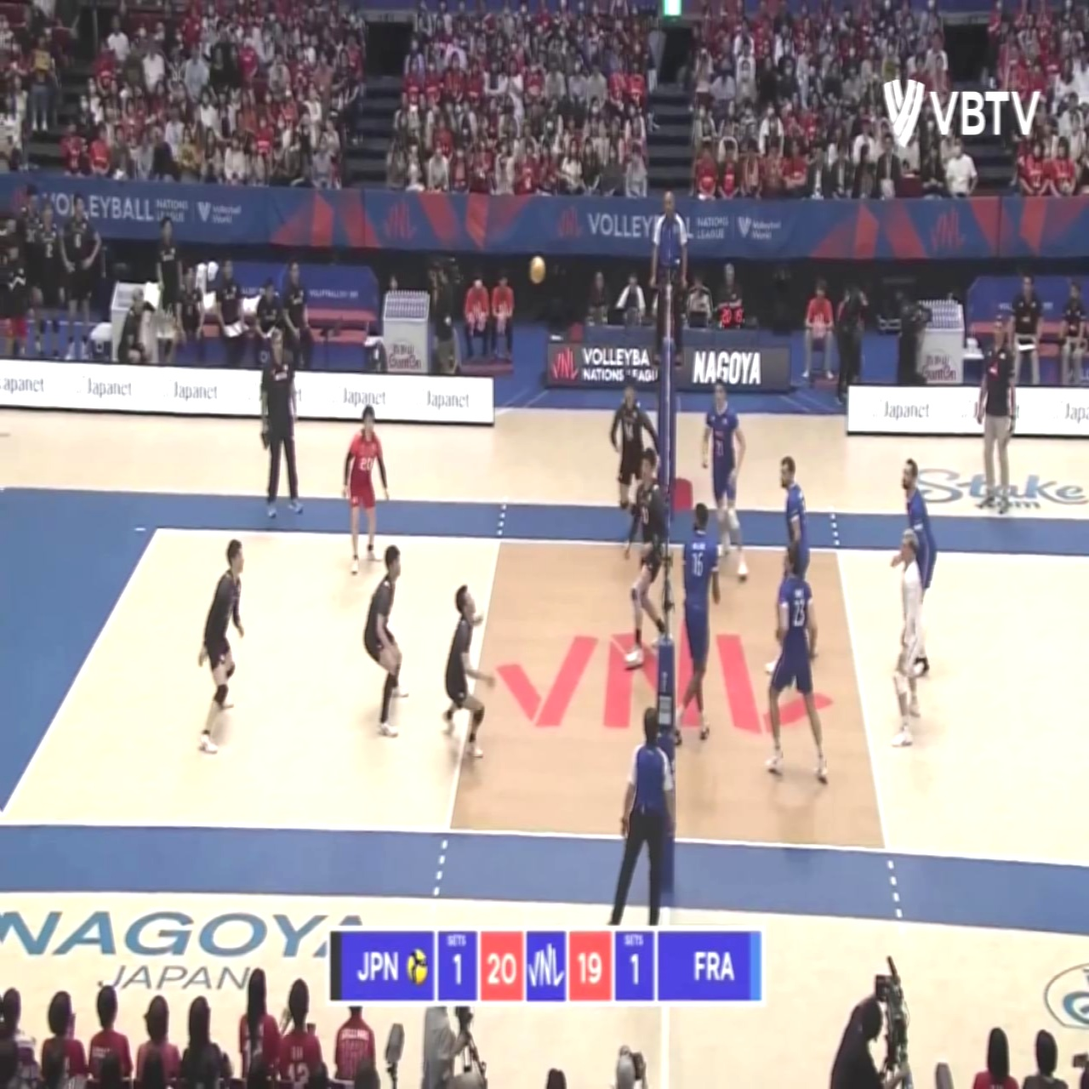ball: (529, 254, 544, 282)
